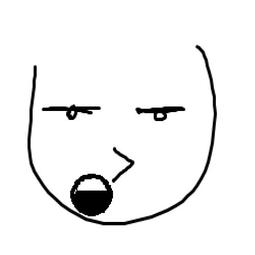open_mouth: (65, 171, 113, 219)
pointy_nose: (110, 142, 140, 184)
small_eye: (38, 99, 103, 123), (128, 99, 191, 122)
